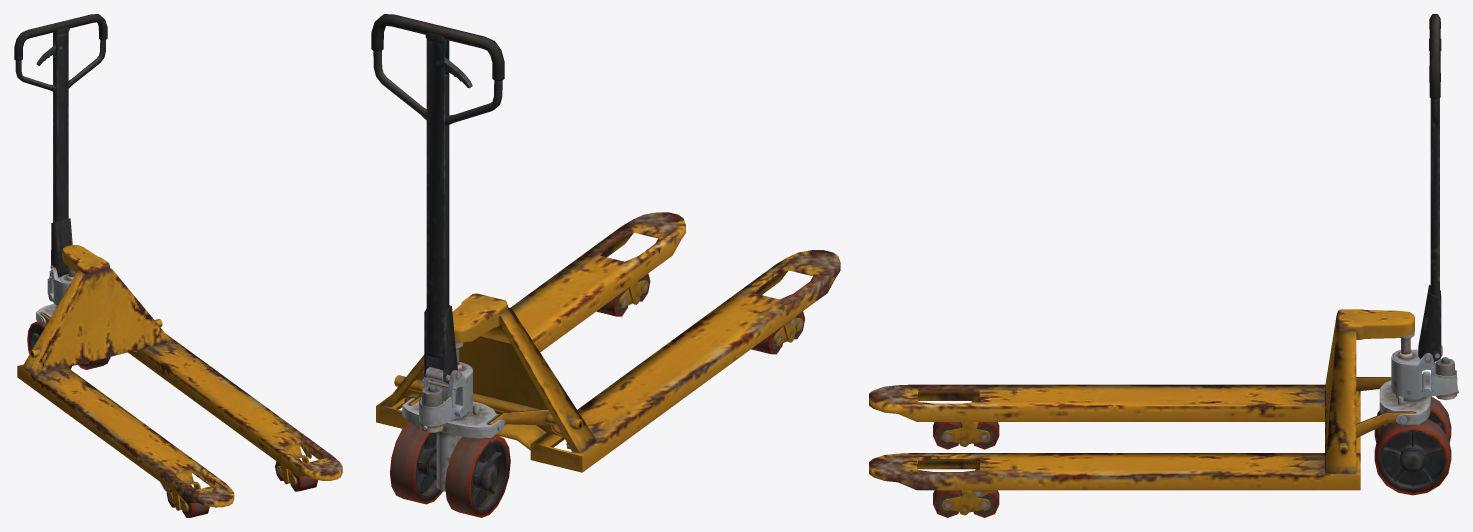
File: sm22_032_handlift01a.fbx
3 renders of one model, left to right at view 1: azimuth 30°, elevation 25°; view 2: azimuth 150°, elevation 25°; view 3: azimuth 270°, elevation 25°, orthographic. The views are drawn at different scales.
Parts seen in each view (by area): view 1: LOD_1_Group_7_Sub_1__sm22_032_HandLift01A_A_Mat, LOD_1_Group_6_Sub_1__sm22_032_HandLift01A_A_Mat, LOD_1_Group_2_Sub_1__sm22_032_HandLift01A_A_Mat, LOD_1_Group_1_Sub_1__sm22_032_HandLift01A_A_Mat, LOD_1_Group_4_Sub_1__sm22_032_HandLift01A_A_Mat, LOD_1_Group_5_Sub_1__sm22_032_HandLift01A_A_Mat; view 2: LOD_1_Group_7_Sub_1__sm22_032_HandLift01A_A_Mat, LOD_1_Group_6_Sub_1__sm22_032_HandLift01A_A_Mat, LOD_1_Group_4_Sub_1__sm22_032_HandLift01A_A_Mat, LOD_1_Group_5_Sub_1__sm22_032_HandLift01A_A_Mat, LOD_1_Group_8_Sub_1__sm22_032_HandLift01A_A_Mat, LOD_1_Group_2_Sub_1__sm22_032_HandLift01A_A_Mat, LOD_1_Group_0_Sub_1__sm22_032_HandLift01A_A_Mat, LOD_1_Group_1_Sub_1__sm22_032_HandLift01A_A_Mat; view 3: LOD_1_Group_7_Sub_1__sm22_032_HandLift01A_A_Mat, LOD_1_Group_4_Sub_1__sm22_032_HandLift01A_A_Mat, LOD_1_Group_2_Sub_1__sm22_032_HandLift01A_A_Mat, LOD_1_Group_6_Sub_1__sm22_032_HandLift01A_A_Mat, LOD_1_Group_5_Sub_1__sm22_032_HandLift01A_A_Mat, LOD_1_Group_1_Sub_1__sm22_032_HandLift01A_A_Mat, LOD_1_Group_0_Sub_1__sm22_032_HandLift01A_A_Mat.
Boxes of the visible parts, x1=… form: LOD_1_Group_7_Sub_1__sm22_032_HandLift01A_A_Mat: x1=17, y1=244, x2=342, y2=507; LOD_1_Group_6_Sub_1__sm22_032_HandLift01A_A_Mat: x1=14, y1=14, x2=107, y2=222; LOD_1_Group_2_Sub_1__sm22_032_HandLift01A_A_Mat: x1=166, y1=443, x2=317, y2=517; LOD_1_Group_1_Sub_1__sm22_032_HandLift01A_A_Mat: x1=51, y1=218, x2=72, y2=277; LOD_1_Group_4_Sub_1__sm22_032_HandLift01A_A_Mat: x1=27, y1=321, x2=110, y2=369; LOD_1_Group_5_Sub_1__sm22_032_HandLift01A_A_Mat: x1=47, y1=267, x2=75, y2=305; LOD_1_Group_7_Sub_1__sm22_032_HandLift01A_A_Mat: x1=376, y1=212, x2=840, y2=472; LOD_1_Group_6_Sub_1__sm22_032_HandLift01A_A_Mat: x1=371, y1=14, x2=504, y2=358; LOD_1_Group_4_Sub_1__sm22_032_HandLift01A_A_Mat: x1=390, y1=422, x2=510, y2=517; LOD_1_Group_5_Sub_1__sm22_032_HandLift01A_A_Mat: x1=419, y1=362, x2=472, y2=430; LOD_1_Group_8_Sub_1__sm22_032_HandLift01A_A_Mat: x1=403, y1=367, x2=568, y2=491; LOD_1_Group_2_Sub_1__sm22_032_HandLift01A_A_Mat: x1=596, y1=273, x2=804, y2=354; LOD_1_Group_0_Sub_1__sm22_032_HandLift01A_A_Mat: x1=402, y1=398, x2=504, y2=438; LOD_1_Group_1_Sub_1__sm22_032_HandLift01A_A_Mat: x1=424, y1=305, x2=457, y2=383; LOD_1_Group_7_Sub_1__sm22_032_HandLift01A_A_Mat: x1=869, y1=309, x2=1414, y2=497; LOD_1_Group_4_Sub_1__sm22_032_HandLift01A_A_Mat: x1=1374, y1=396, x2=1451, y2=495; LOD_1_Group_2_Sub_1__sm22_032_HandLift01A_A_Mat: x1=933, y1=395, x2=999, y2=517; LOD_1_Group_6_Sub_1__sm22_032_HandLift01A_A_Mat: x1=1429, y1=14, x2=1441, y2=298; LOD_1_Group_5_Sub_1__sm22_032_HandLift01A_A_Mat: x1=1391, y1=349, x2=1457, y2=401; LOD_1_Group_1_Sub_1__sm22_032_HandLift01A_A_Mat: x1=1418, y1=285, x2=1441, y2=361; LOD_1_Group_0_Sub_1__sm22_032_HandLift01A_A_Mat: x1=1379, y1=380, x2=1430, y2=424.
Bounding box in the file's own units: 0.42 × 0.9491 × 1.15.
